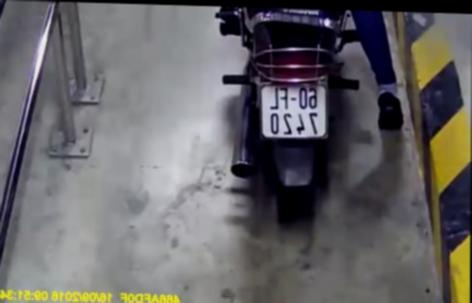License_Plate: (256, 76, 337, 149)
